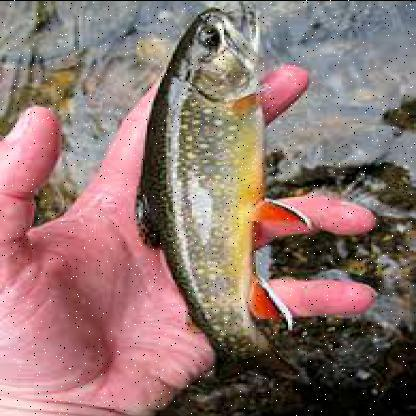fish: (130, 4, 310, 396)
